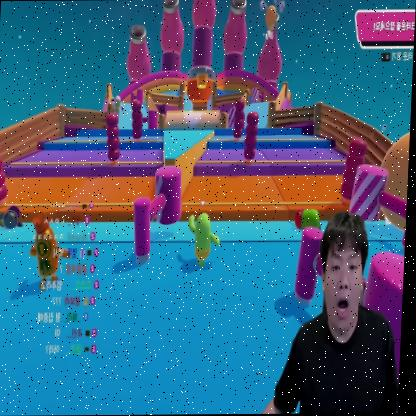streamer: (259, 210, 409, 413)
